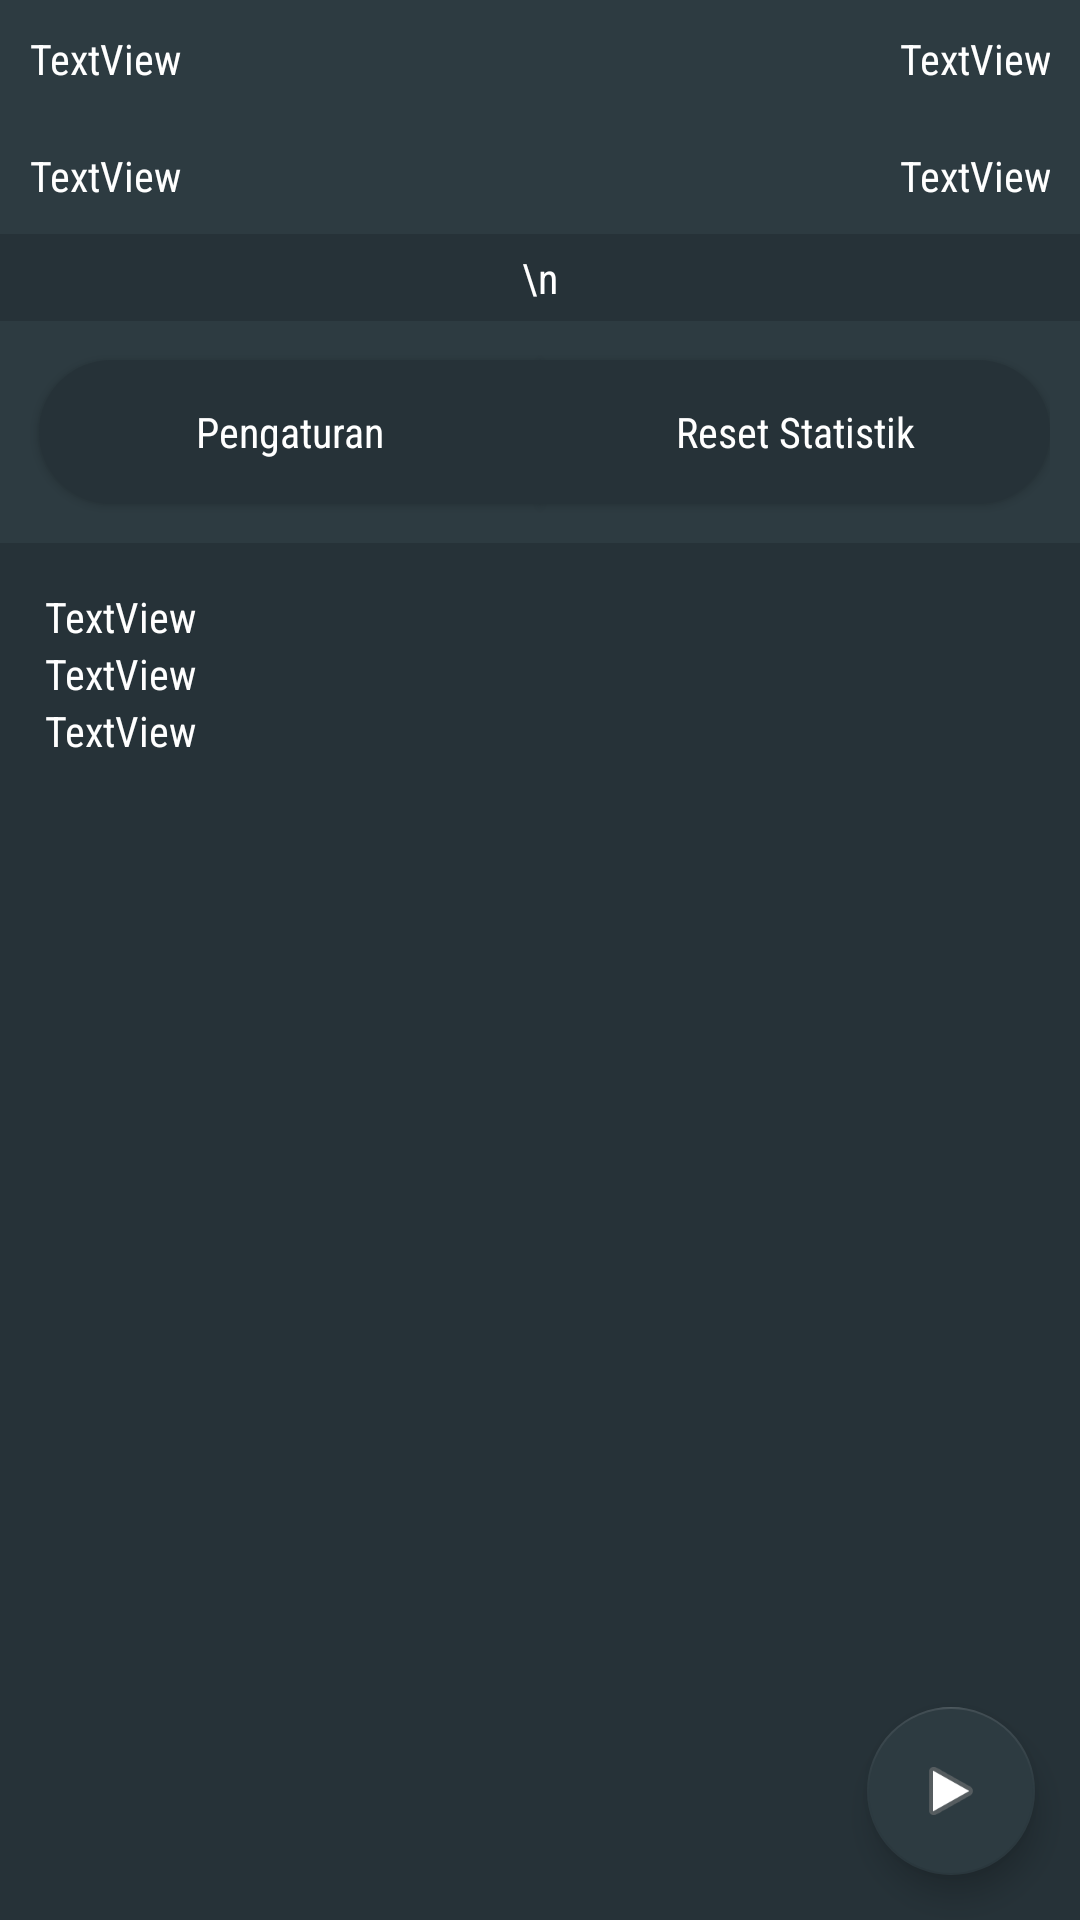

Where to tap for icons on this 1080px x 1920px app screen, as (x=x, y=y):
play: (x=951, y=1791)
